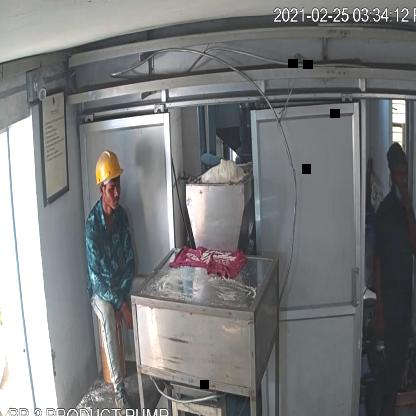helmet: (94, 142, 126, 193)
